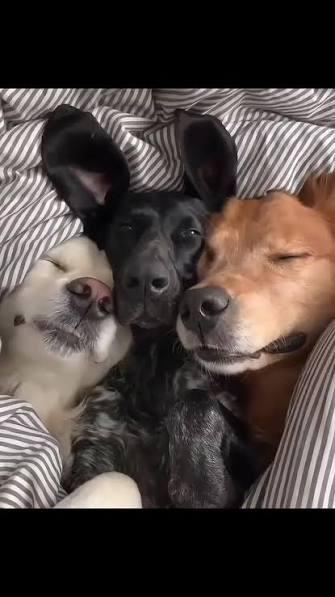adult_dog: (37, 102, 241, 511), (174, 171, 335, 456), (0, 231, 142, 510)
